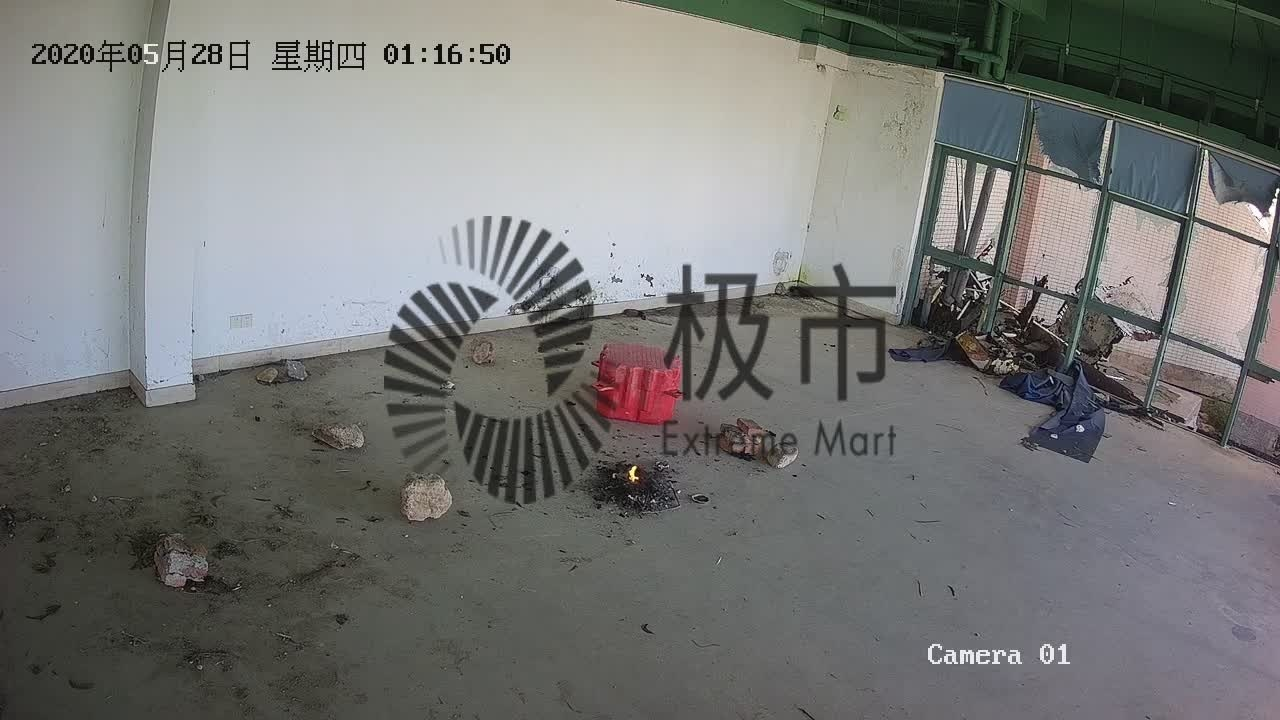fire: (620, 455, 652, 496)
